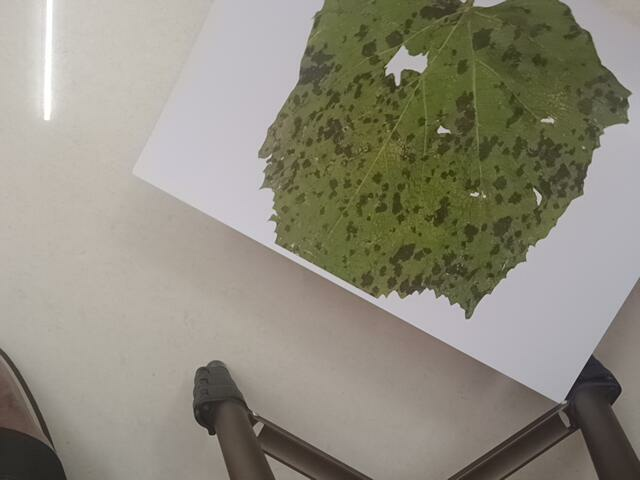Grape_Blight_Leaf: (283, 1, 623, 315)
